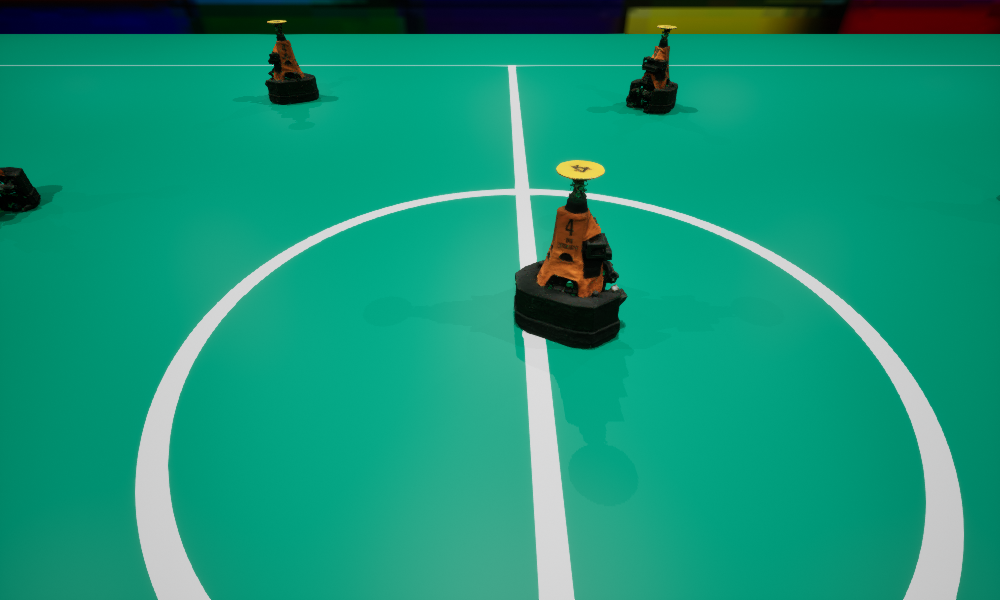o: (514, 160, 627, 348), (626, 25, 677, 113), (265, 20, 318, 103), (0, 167, 40, 212)
